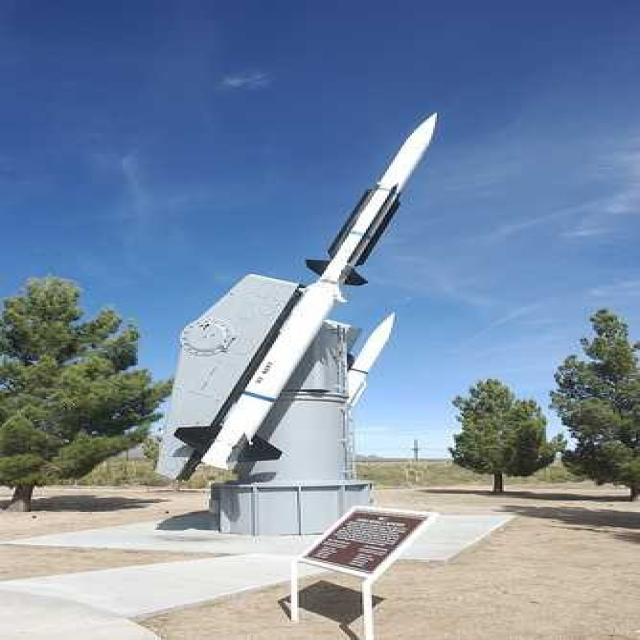missile: (165, 100, 453, 502)
